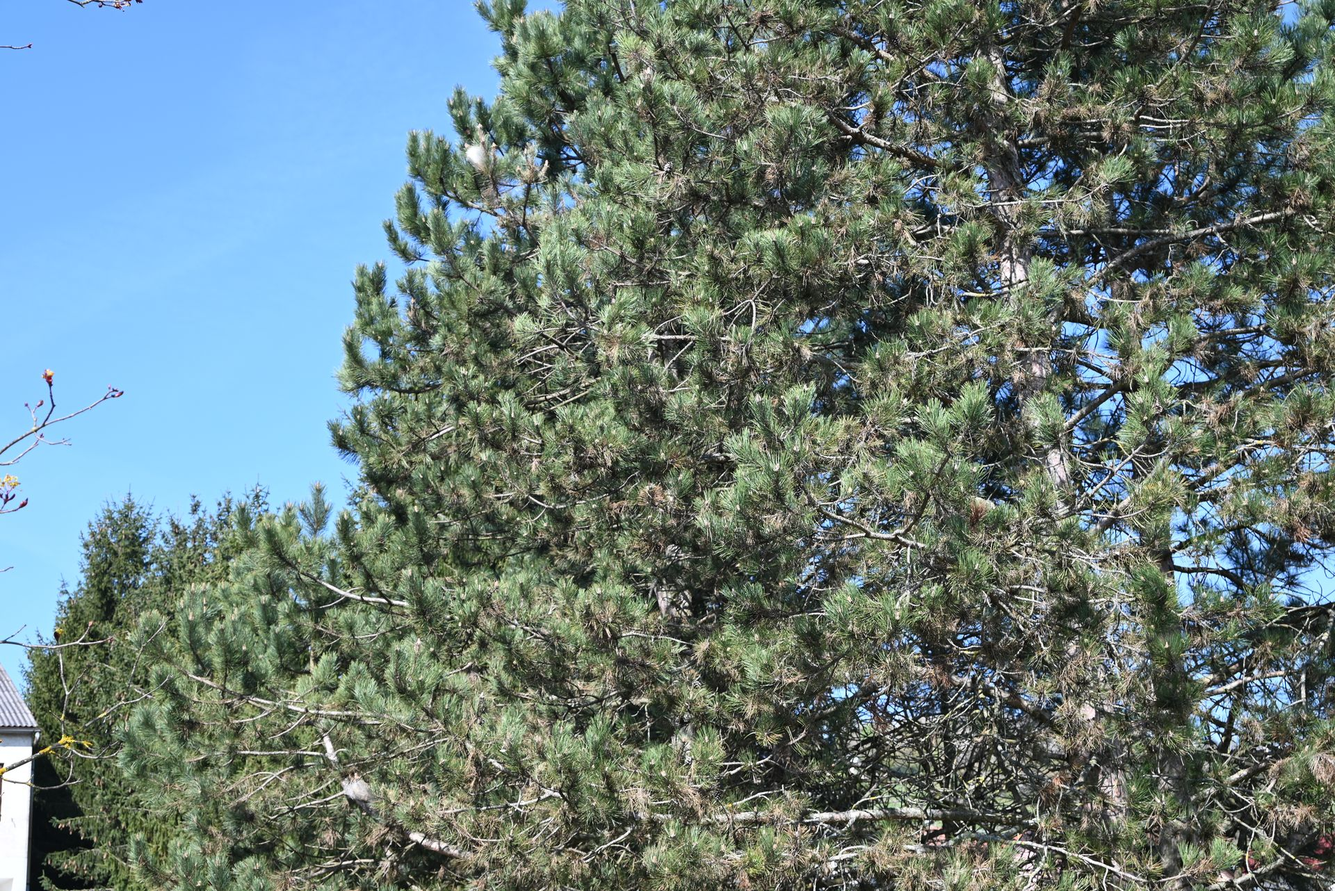thaumatopoea pityocampa jajno gnijezdo: (456, 133, 502, 188)
